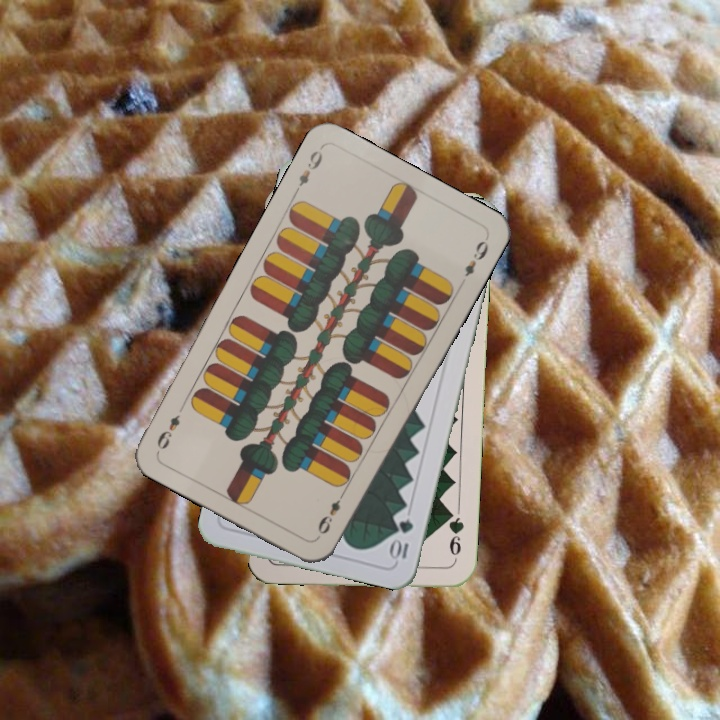E9: (312, 487, 348, 541), (290, 146, 326, 197)
G10: (388, 515, 416, 564)
G9: (444, 506, 467, 566)
